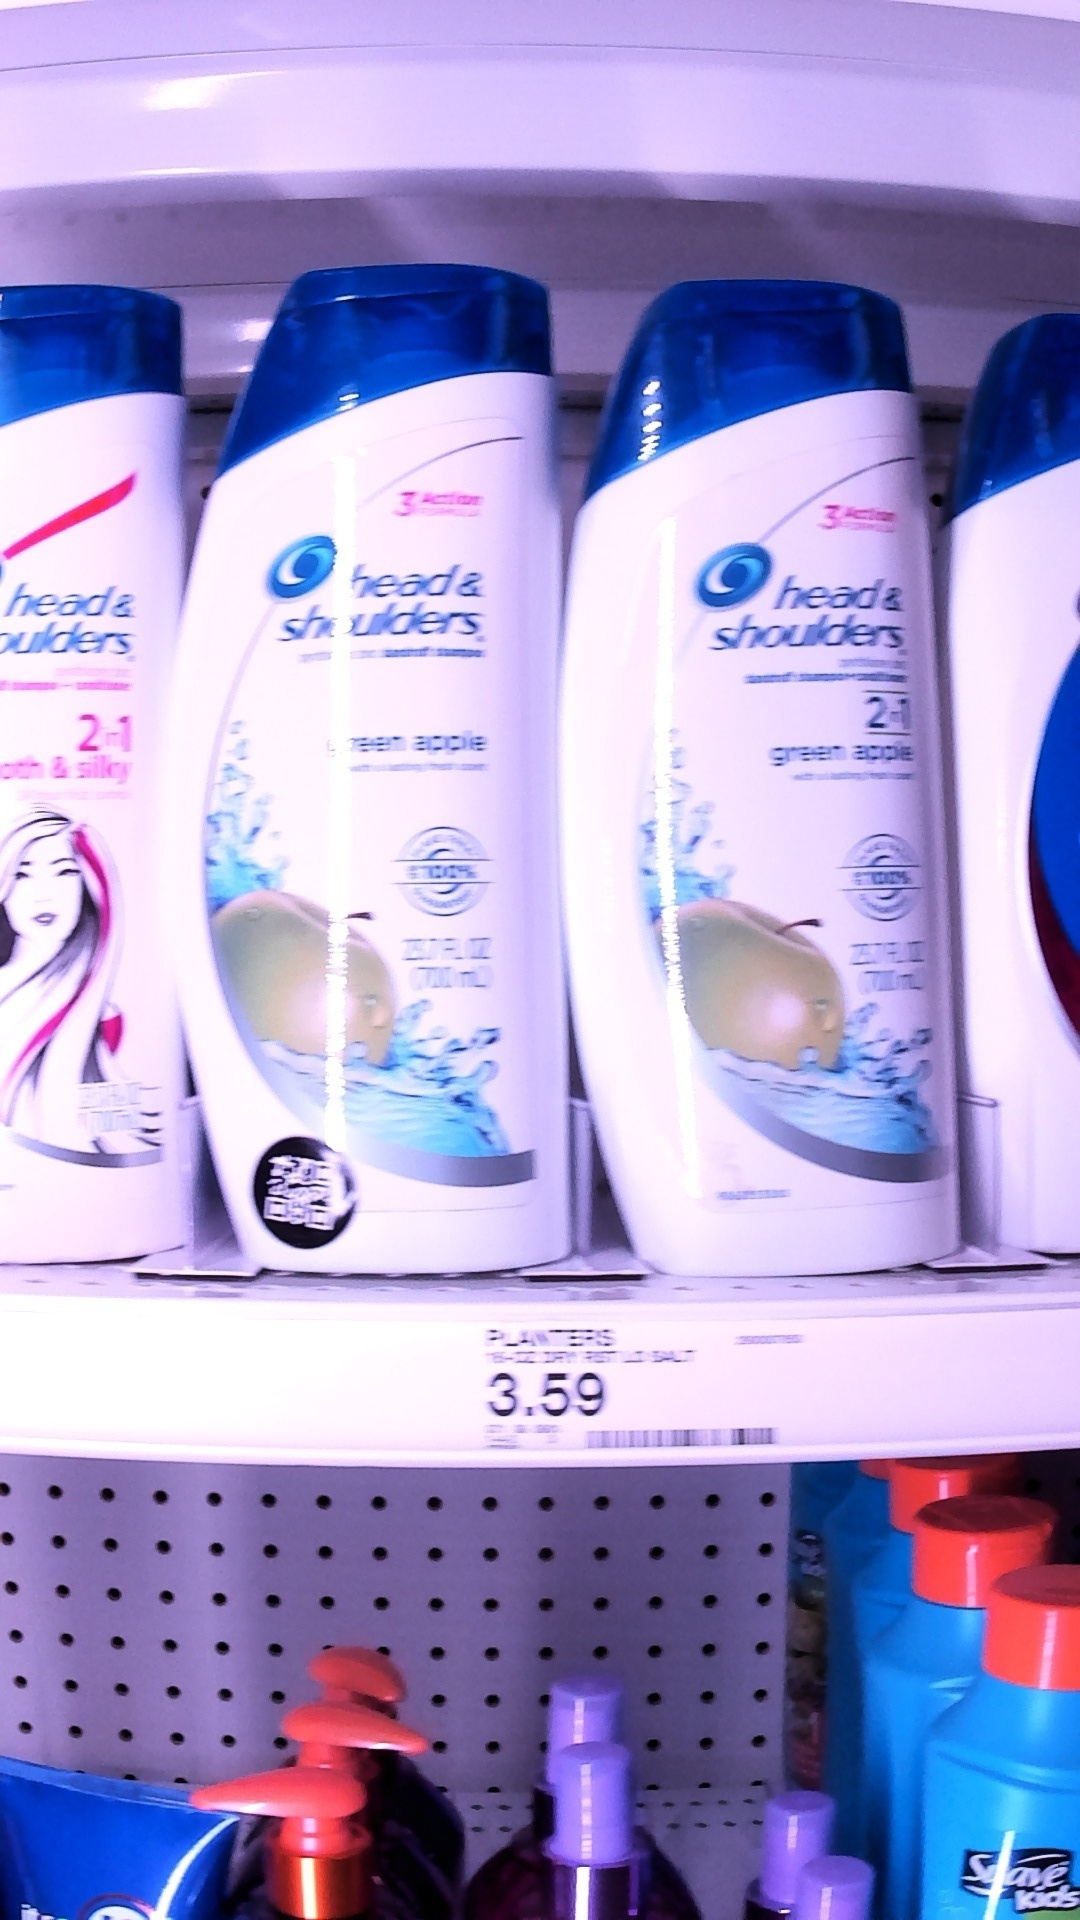ptag: (475, 1295, 820, 1482)
